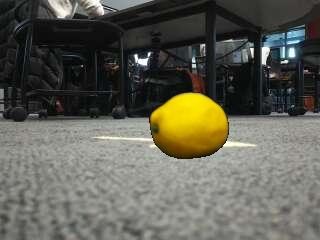lemon: (151, 93, 228, 158)
